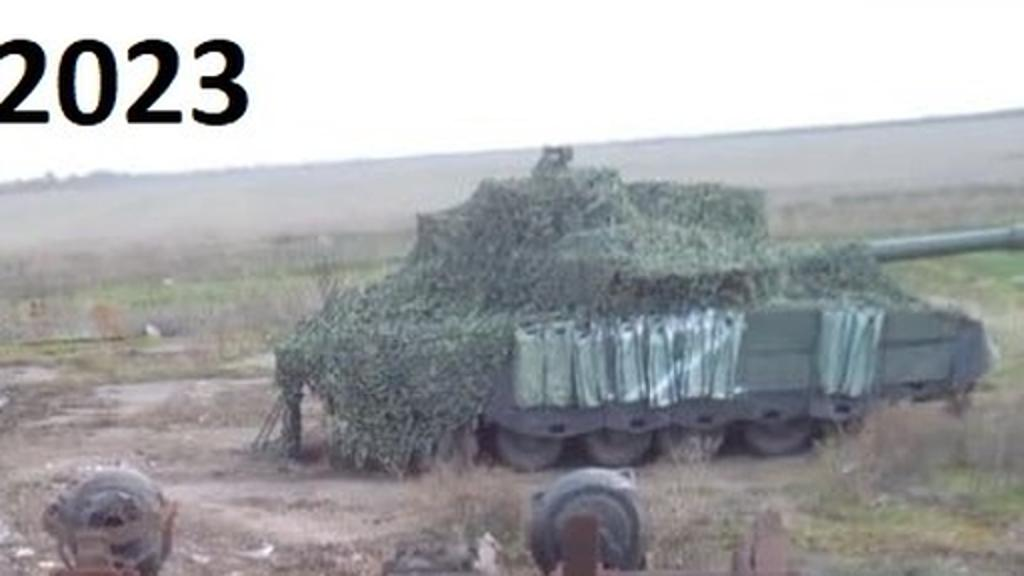TANK: (260, 170, 1010, 478)
